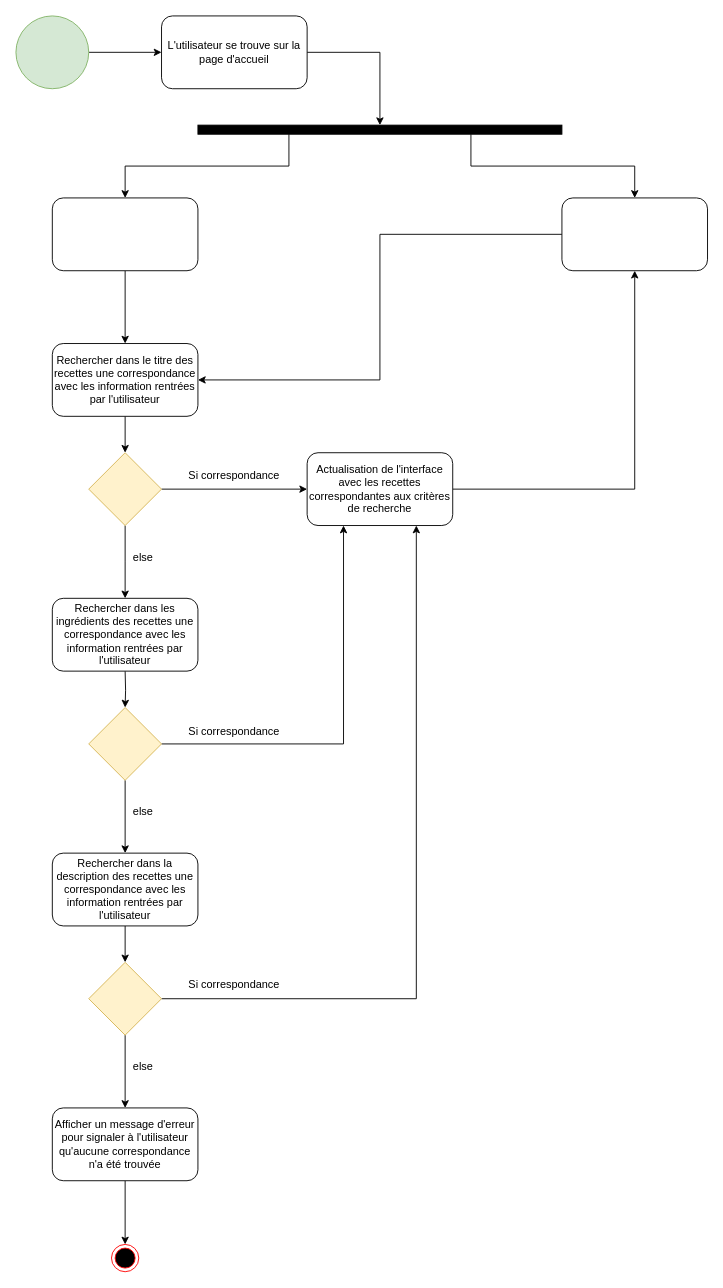
Image size: 723x1288. Some labels were removed from this diagram. Here are the shapes that lost their labels. From the top down, the centre of each, then its label:
[124,234]: L'utilisateur rentre trois caractères dans la barre de recherche
[634,234]: L'utilisateur clique sur un tag
